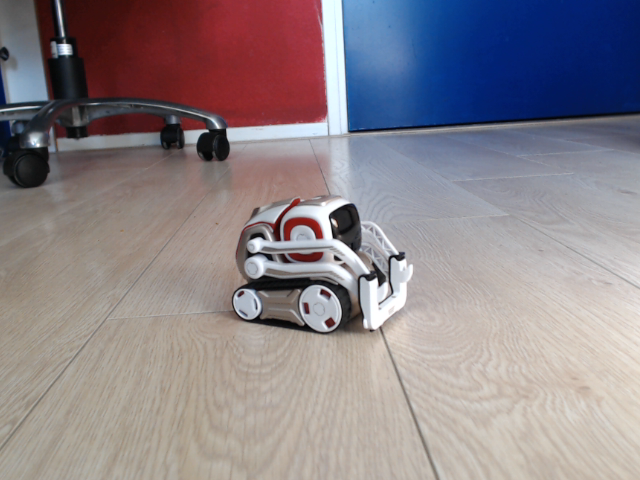cozmo: (230, 192, 417, 333)
